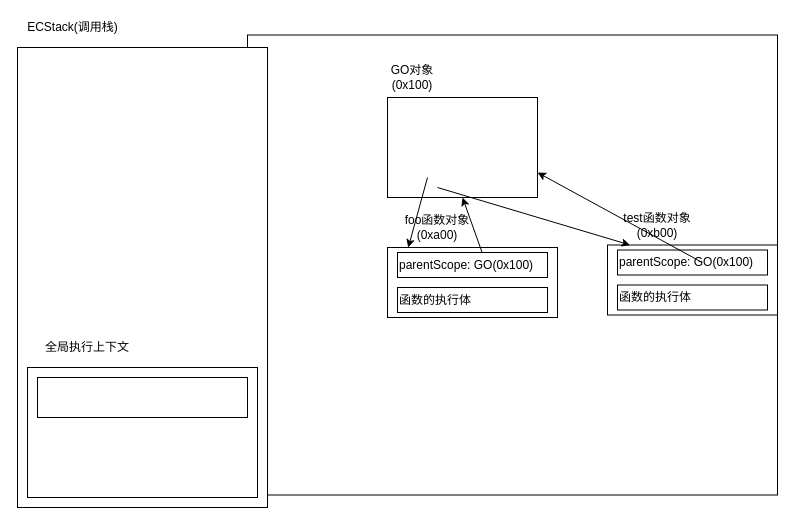
This 795x525 diagram has some shape labels left out. Here are the shapes that lost their labels. From the top down, the box of each, then its label:
(386, 96, 538, 198): Date String window message:"Hello World" foo: 0xa00 test: 0xb00
(36, 376, 248, 418): VO: GO
